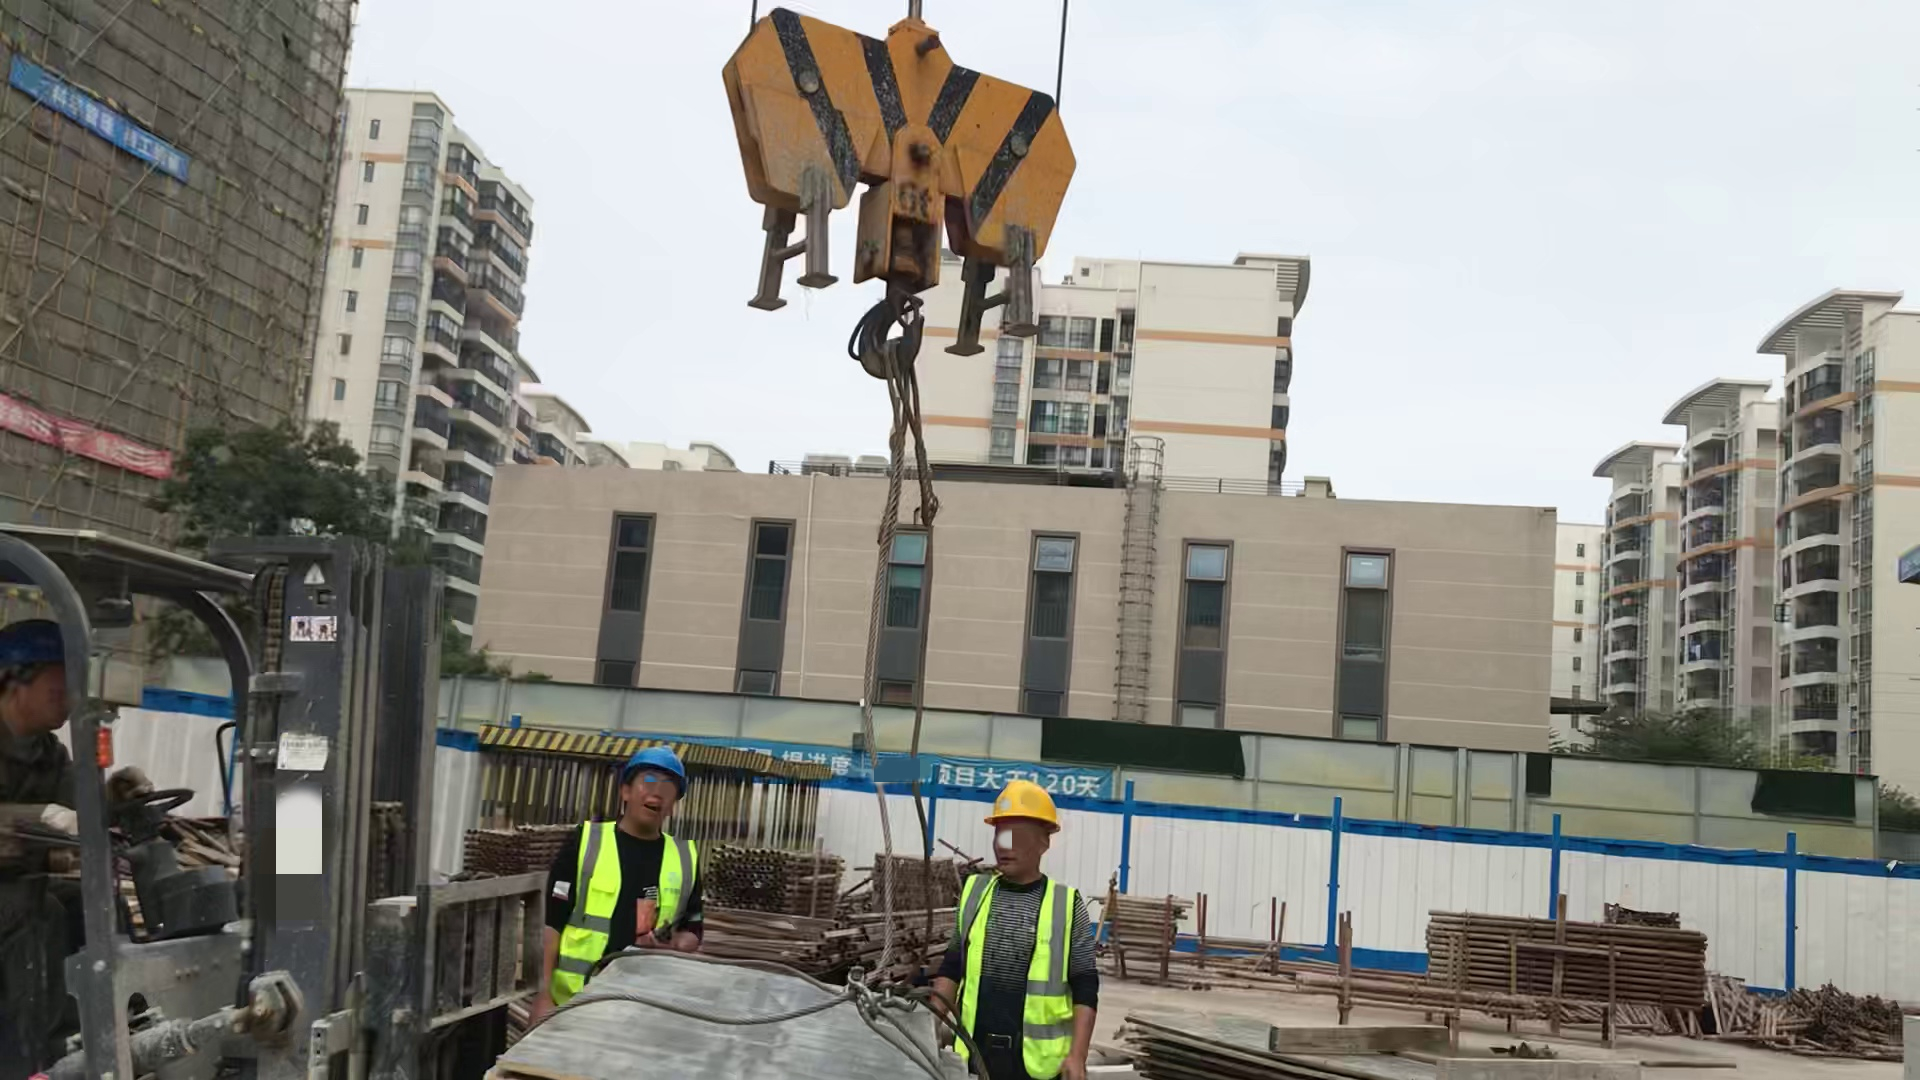board: (512, 944, 926, 1080), (1138, 994, 1541, 1080)
helmet: (972, 773, 1068, 834), (1, 620, 77, 675), (618, 748, 689, 794)
hook: (707, 12, 1067, 389)
person: (525, 750, 770, 1019), (924, 771, 1132, 1080), (1, 623, 111, 828)
scaffold: (1416, 898, 1711, 998)
slogan: (764, 730, 1111, 801), (13, 74, 202, 182), (1, 384, 178, 474)
vest: (553, 817, 700, 1008), (955, 876, 1083, 1069)
